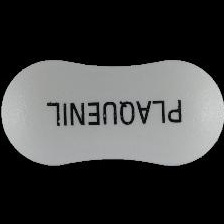69189-0058: (0, 0, 224, 224)
